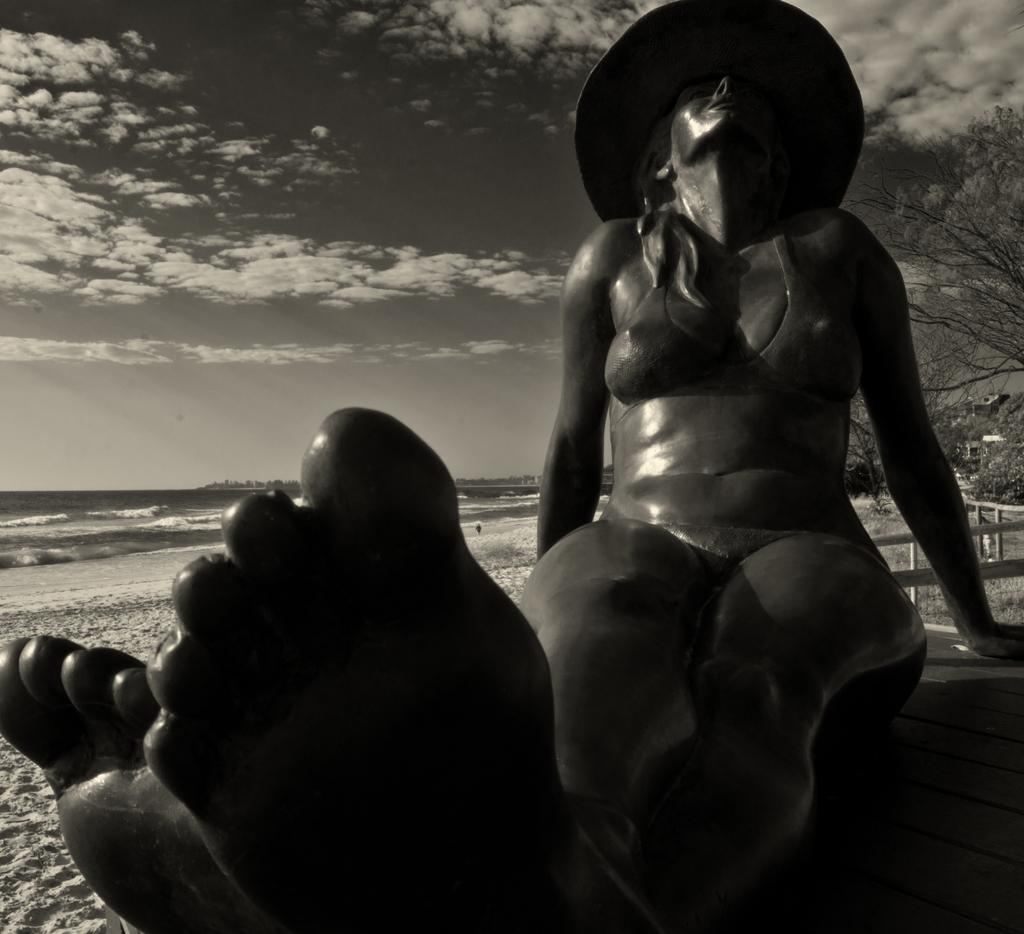Hat: (568, 0, 866, 224)
